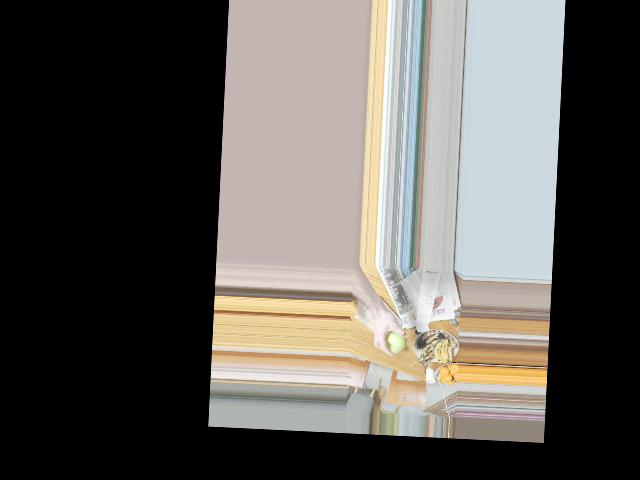apple: (382, 325, 406, 354)
